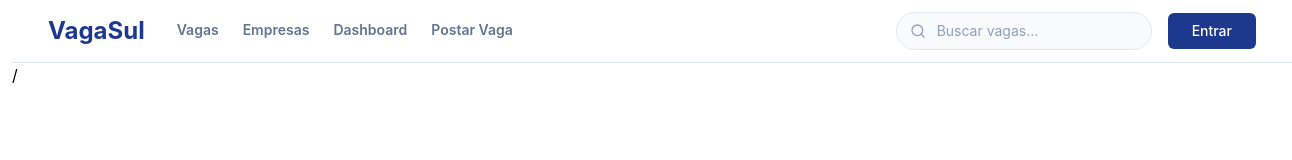
Scenario: Navbar › sends the header search to /vagas with the query
The image size is (1292, 160).
In the search field labelled "Buscar vagas": (1024, 31) [896,12,1152,50], type "marceneiro"
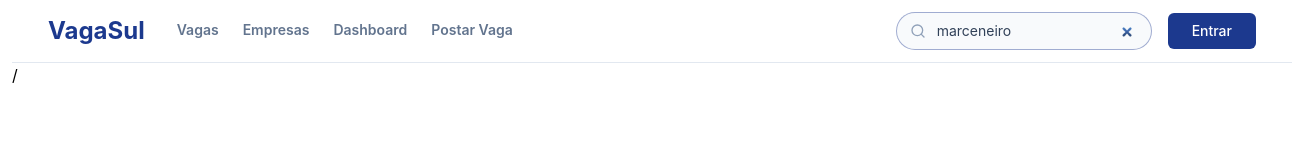
Click the button named "Buscar vagas": (918, 31) [910,23,926,39]
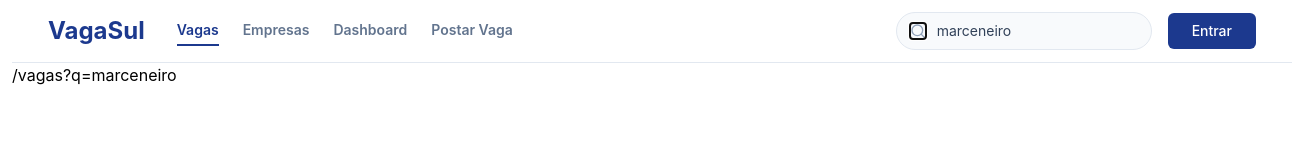
expect the text with test id "location" reads "/vagas?q=marceneiro": met, box [12,65,177,85]
